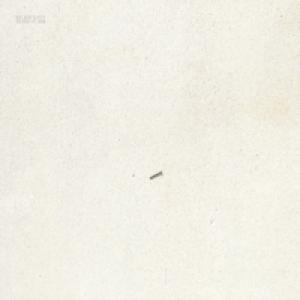Bolt: (149, 169, 162, 179)
